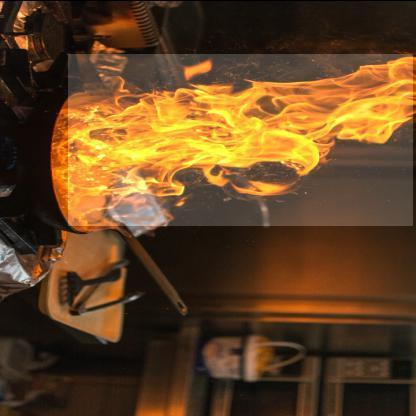Fire: (52, 43, 416, 242)
